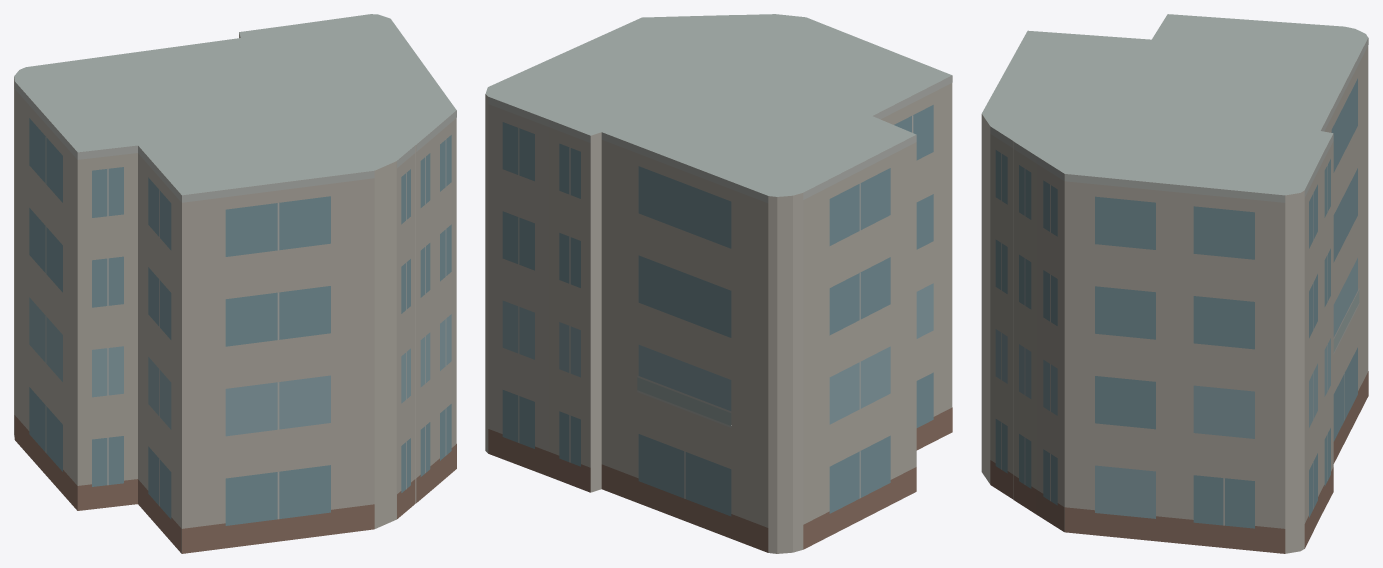
File: survey-upis-32527503.glb
3 renders of one model, left to right at view 1: azimuth 30°, elevation 25°; view 2: azimuth 150°, elevation 25°; view 3: azimuth 270°, elevation 25°, orthographic.
Parts seen in each view (by area): view 1: survey-upis-32527503.tmp; view 2: survey-upis-32527503.tmp; view 3: survey-upis-32527503.tmp.
Boxes of the visible parts, bbox=[...] form: survey-upis-32527503.tmp: bbox=[14, 14, 456, 553]; survey-upis-32527503.tmp: bbox=[485, 14, 952, 553]; survey-upis-32527503.tmp: bbox=[981, 14, 1368, 553].
Size of the model in its own units: 12.71 by 11.7 by 11.45.
